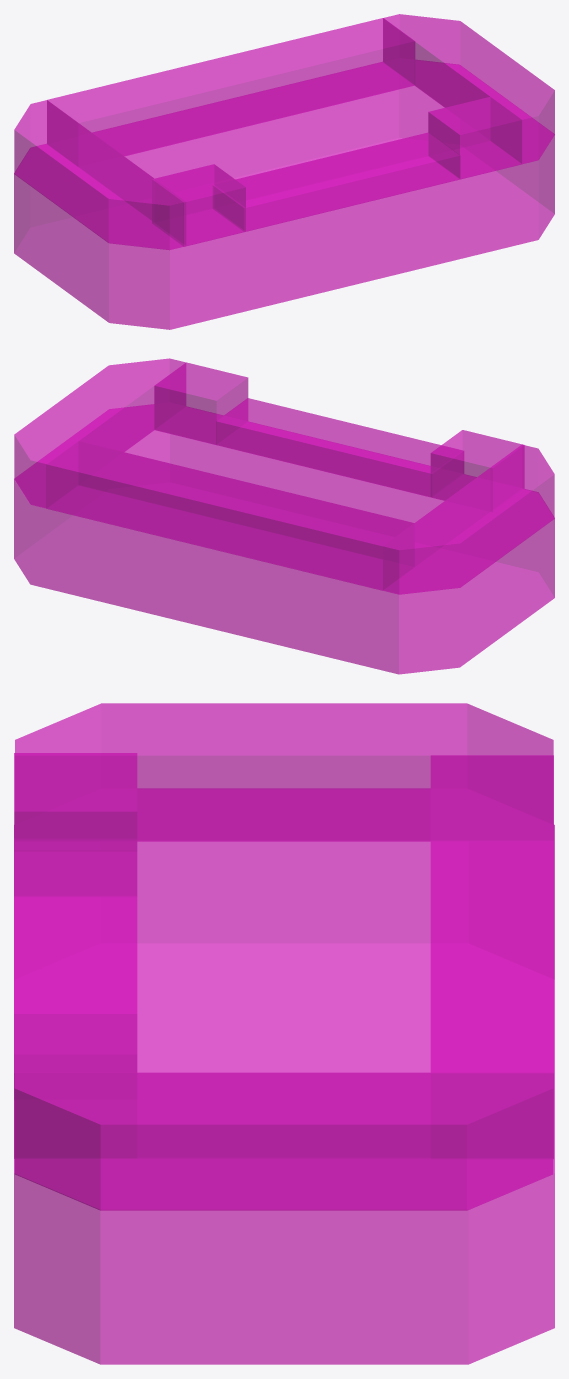
The model's file is SM_Prop_Craps_Table_01_Collision.fbx.
3 views of the same model, one above another, from view 1: azimuth 30°, elevation 25°; view 2: azimuth 150°, elevation 25°; view 3: azimuth 270°, elevation 25° (orthographic). The views are drawn at different scales.
Visible parts, largest first — view 1: SM_Prop_Craps_Table_01_Collision; view 2: SM_Prop_Craps_Table_01_Collision; view 3: SM_Prop_Craps_Table_01_Collision.
Boxes of the visible parts, box(x1,y1,x2,y2) form: SM_Prop_Craps_Table_01_Collision: box(14, 14, 554, 329); SM_Prop_Craps_Table_01_Collision: box(14, 358, 554, 674); SM_Prop_Craps_Table_01_Collision: box(14, 703, 554, 1364).
Size of the model in its own units: 369 by 97.9 by 200.
